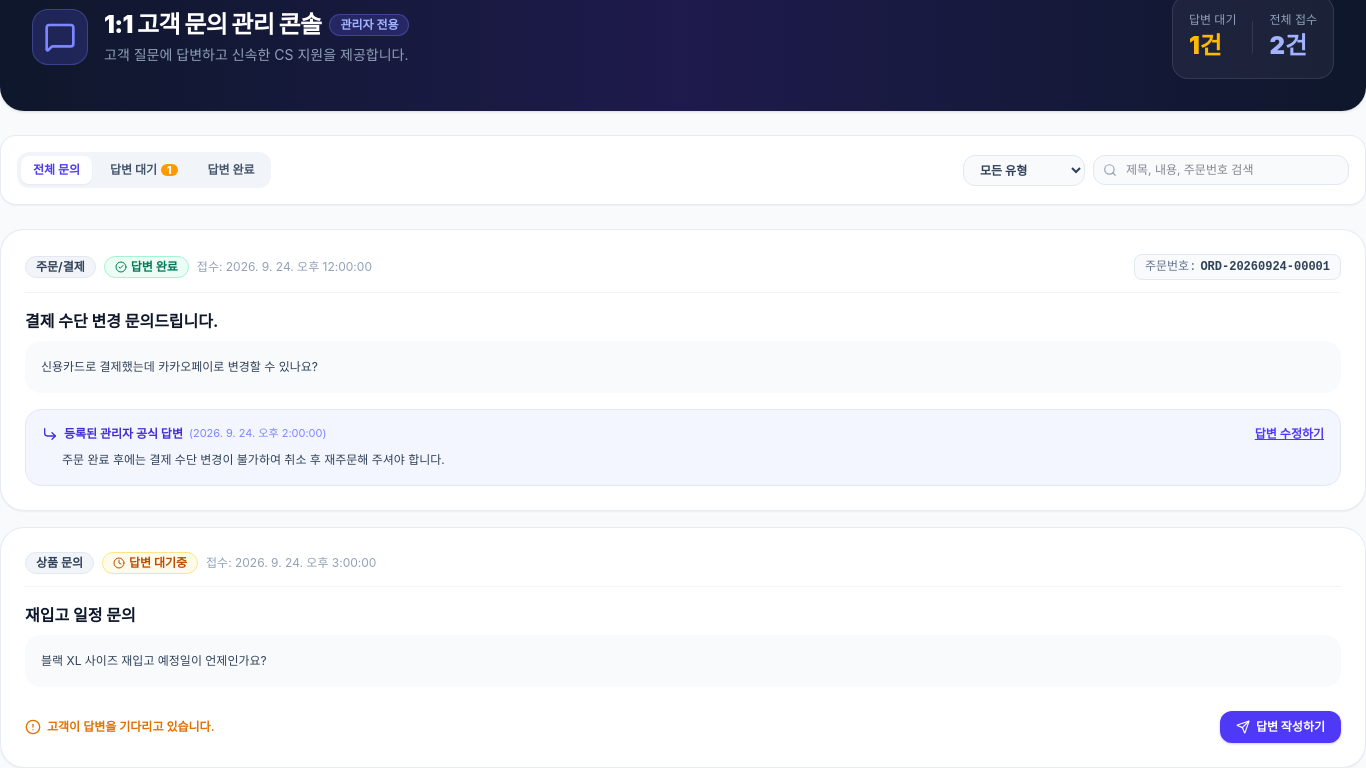
Scenario: AdminInquiriesViewer Component › 답변 작성하기 버튼을 클릭해 모달을 열고 공식 답변을 등록할 수 있다
(page scrolled)
답변 대기 건의 답변 작성하기 버튼 클릭
Click the button "답변 작성하기": coordinates (1280, 726) [1220,710,1341,742]
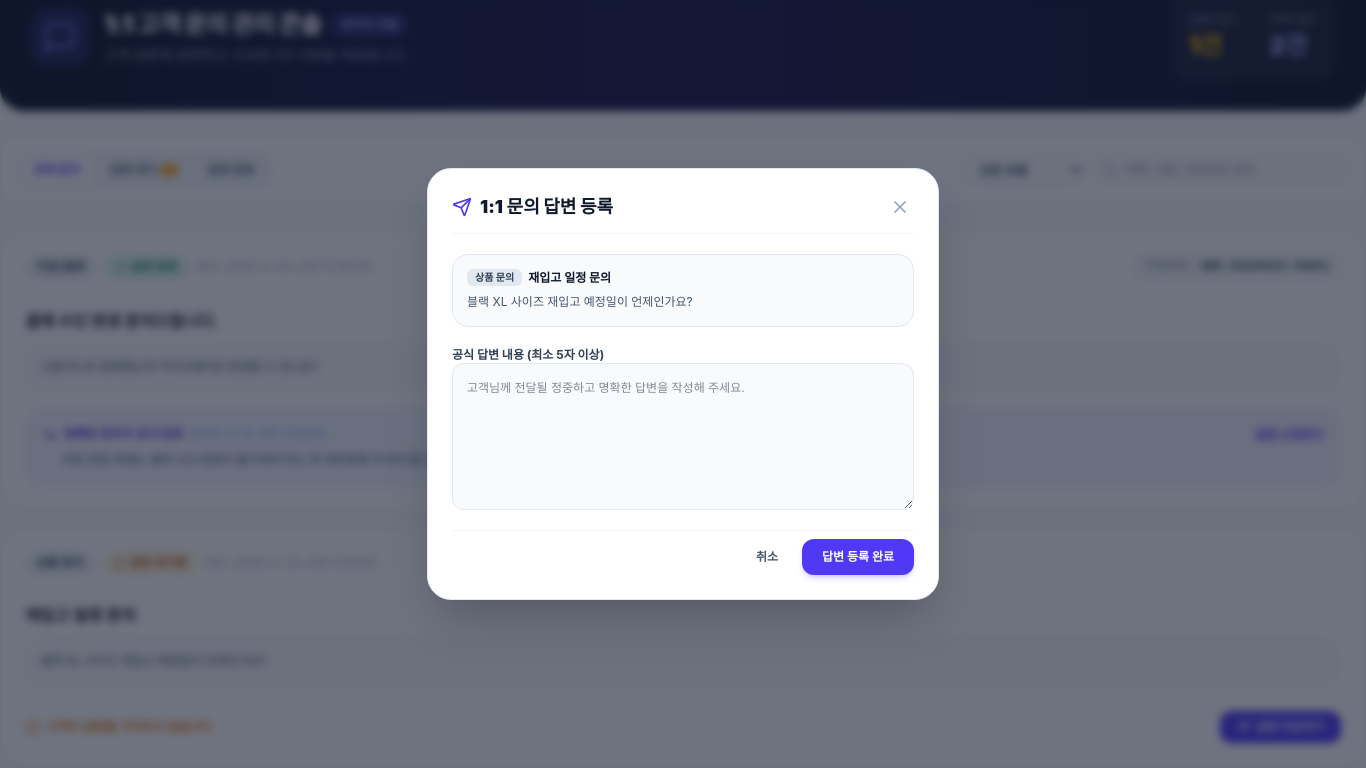
Check: the heading "1:1 문의 답변 등록" is shown, box [480,193,613,221]
In the text box with placeholder "고객님께 전달될 정중하고 명확한 답변을 작성해 주세요.": coordinates (683, 436) [452,363,914,510], type "해당 상품은 다음 주 화요일에 재입고될 예정입니다."
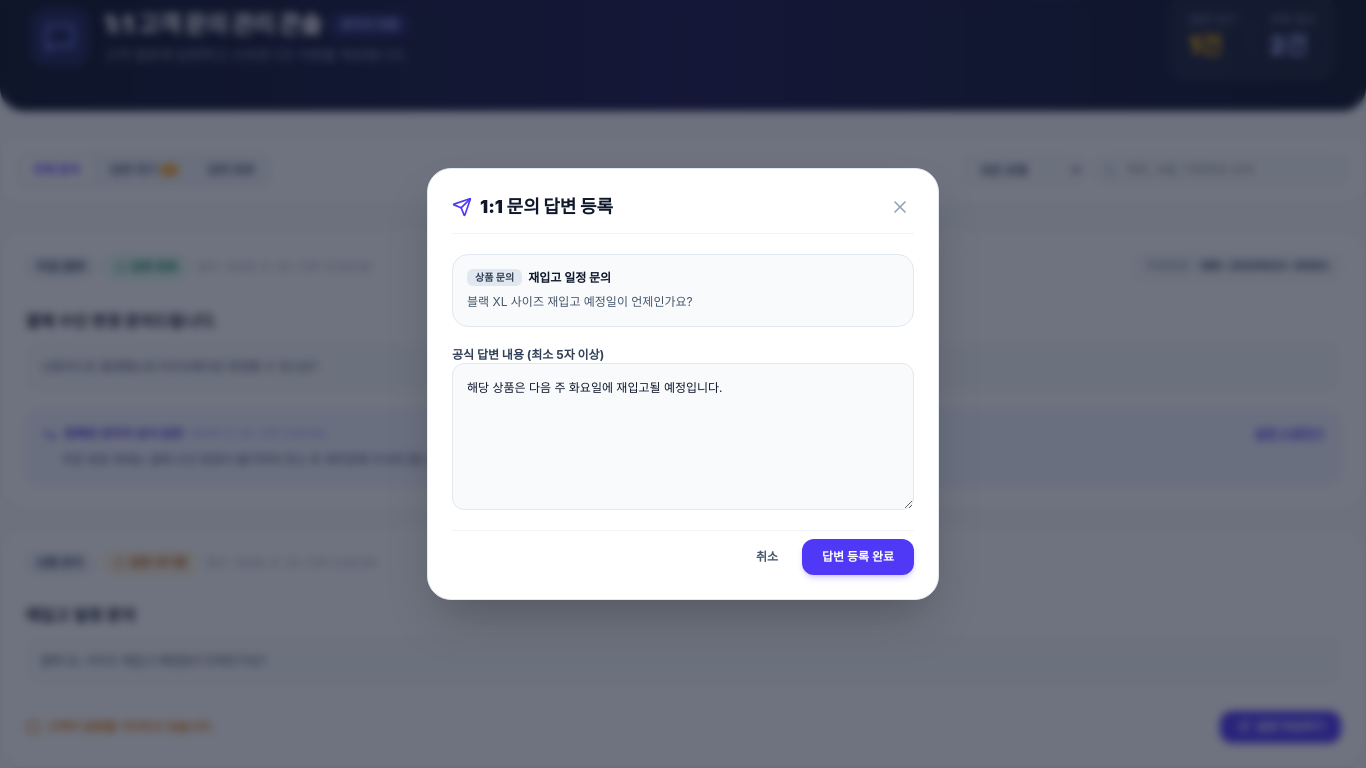
등록 버튼 클릭
Click the button "답변 등록 완료": coordinates (858, 557) [802,539,914,575]
(page scrolled)
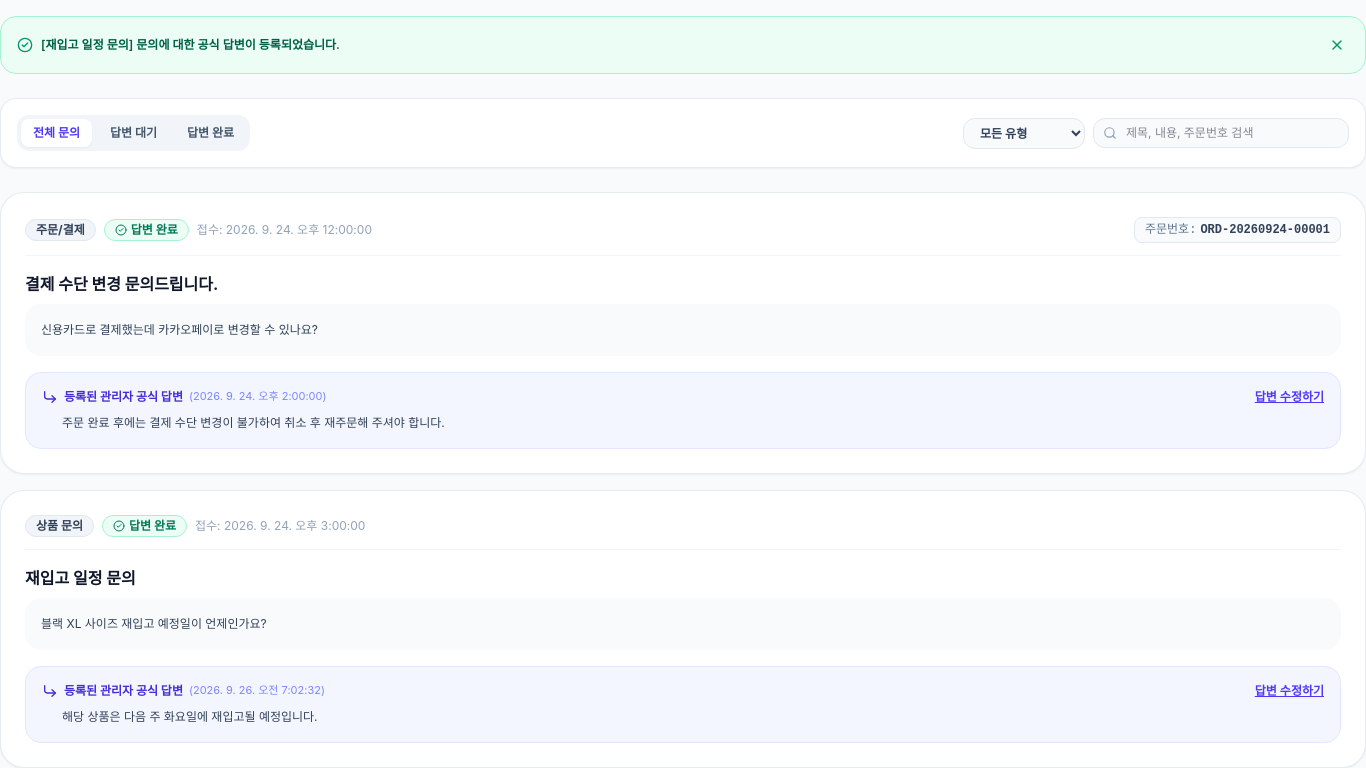
Check: the text "[재입고 일정 문의] 문의에 대한 공식 답변이 등록되었습니다." is shown, box [41,37,340,53]
Check: the text "해당 상품은 다음 주 화요일에 재입고될 예정입니다." is shown, box [62,708,318,724]
